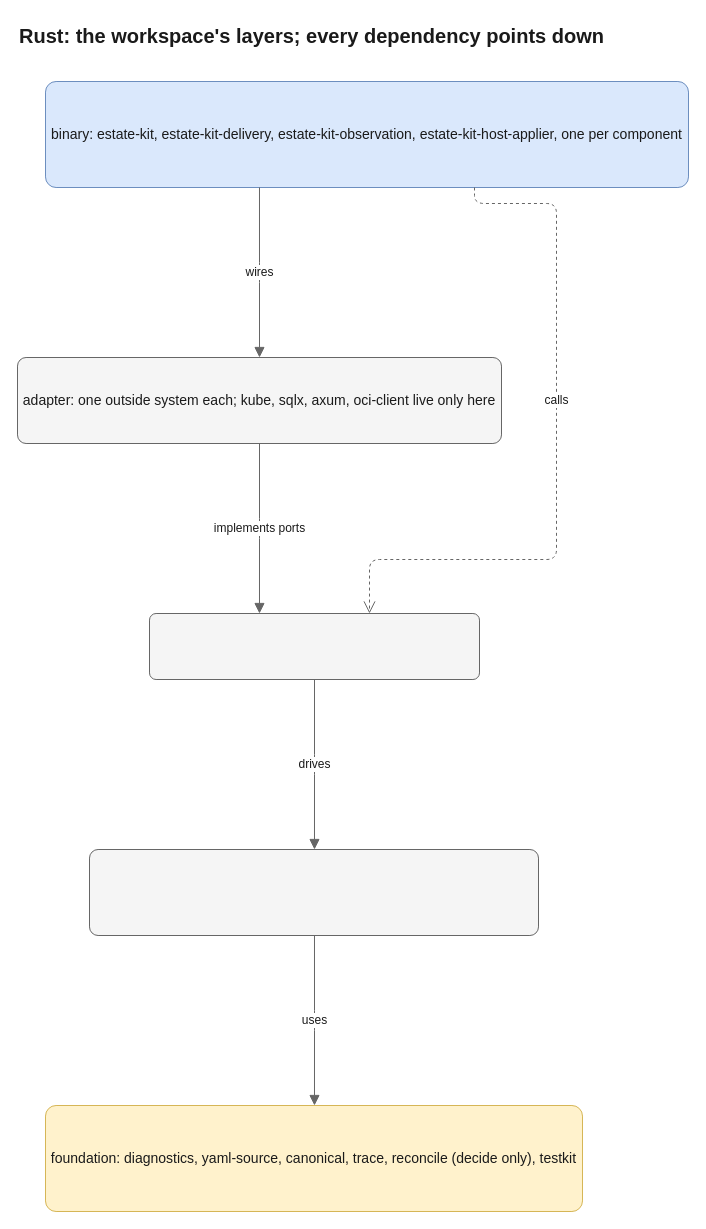
The diagram is 706 pixels wide and 1229 high, and some of its shapes have lost their labels. The centre of each missing label's shape, as x and y in pixels:
application: use cases, port traits, one fake per port: the point at 314,646
domain: models, steps, deciders, invariants; no I/O, no async, no clock: the point at 313,892
